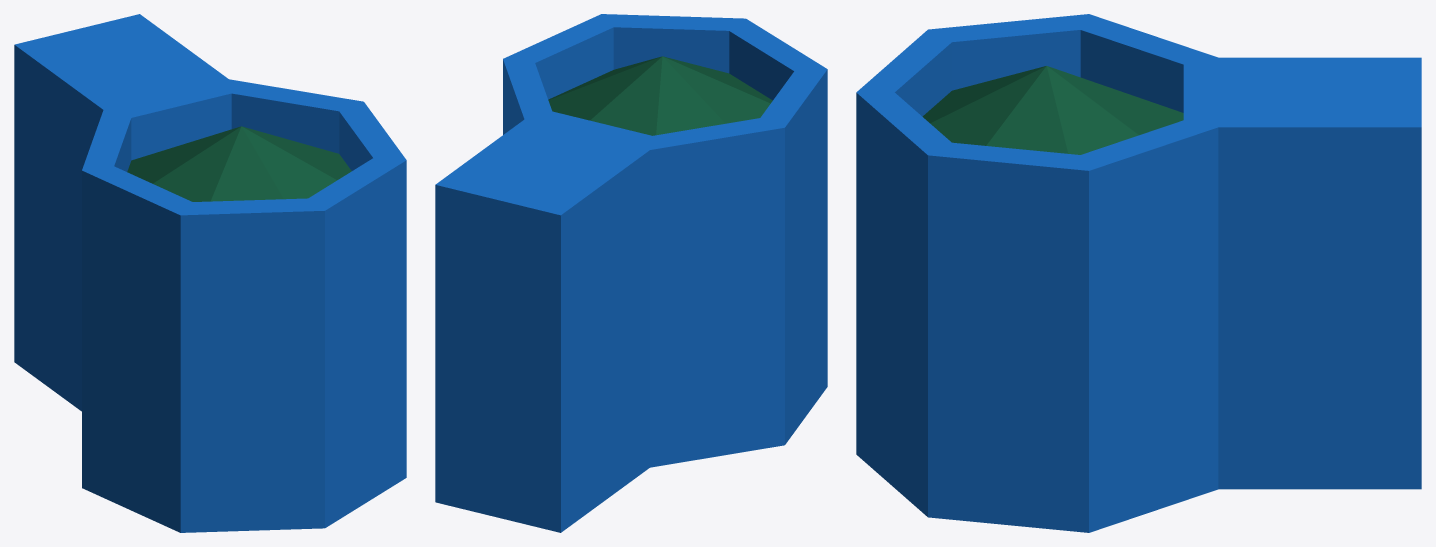
Rendered from T_street_wall_lamp.fbx.
3 renders of one model, left to right at view 1: azimuth 30°, elevation 25°; view 2: azimuth 150°, elevation 25°; view 3: azimuth 270°, elevation 25°, orthographic. The views are drawn at different scales.
Visible parts, largest first — view 1: street_wall_lamp; view 2: street_wall_lamp; view 3: street_wall_lamp.
Boxes of the visible parts, x1=… form: street_wall_lamp: x1=14, y1=14, x2=406, y2=532; street_wall_lamp: x1=435, y1=14, x2=827, y2=532; street_wall_lamp: x1=856, y1=14, x2=1421, y2=532.
Size of the model in its own units: 13.29 by 16.41 by 20.24.
